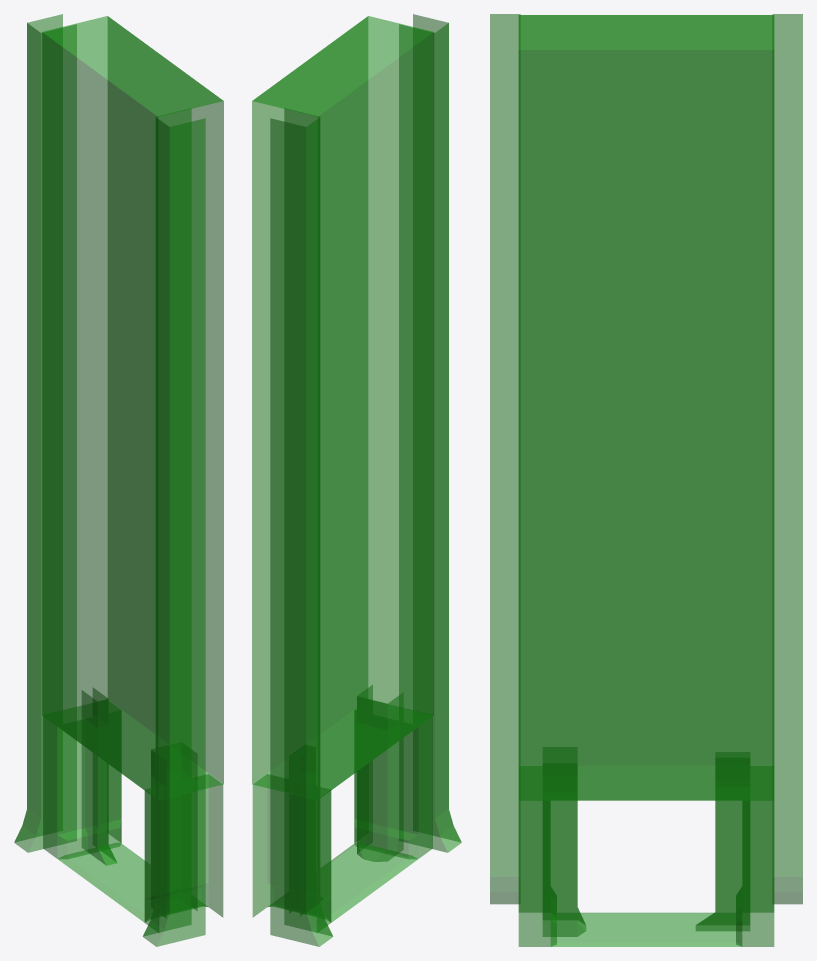
File: Wall_3.obj
The picture shows the model from 3 angles, left to right: view 1: azimuth 30°, elevation 25°; view 2: azimuth 150°, elevation 25°; view 3: azimuth 270°, elevation 25°; orthographic projection. The views are drawn at different scales.
Bounding box in the file's own units: 3.2 × 31.04 × 9.81.
